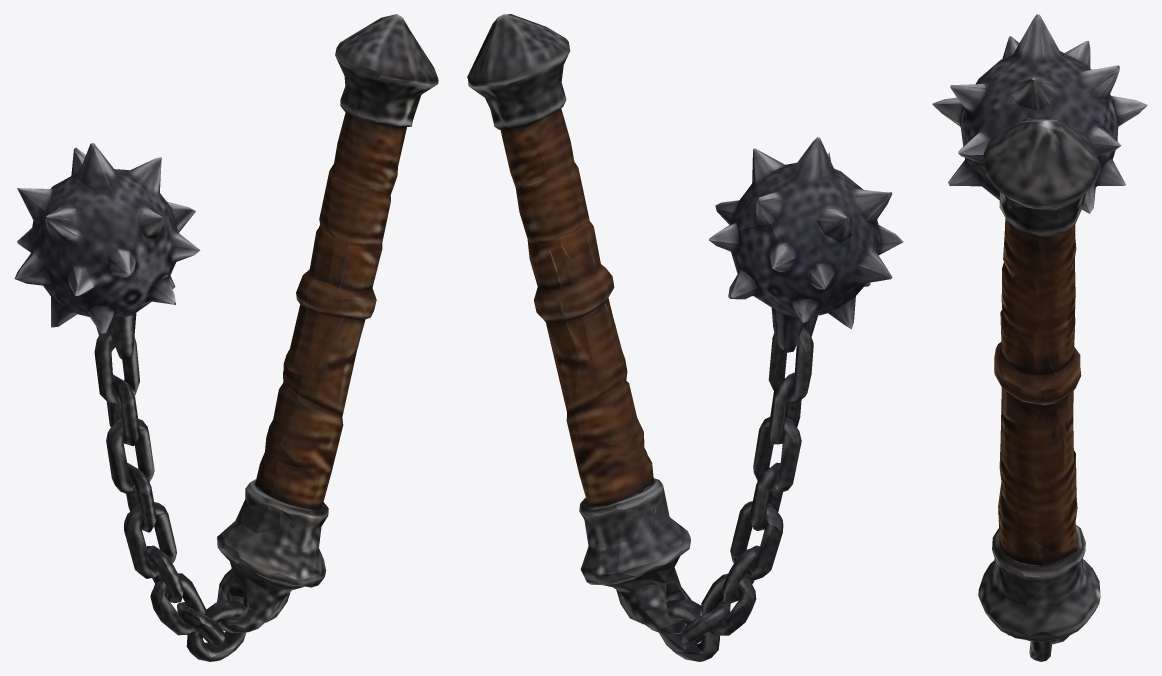
File: 1566_flail.glb
3 renders of one model, left to right at view 1: azimuth 30°, elevation 25°; view 2: azimuth 150°, elevation 25°; view 3: azimuth 270°, elevation 25°, orthographic. The views are drawn at different scales.
Parts seen in each view (by area): view 1: Model; view 2: Model; view 3: Model.
Boxes of the visible parts, x1,y1,x2,y2 form: Model: (14,14,438,661); Model: (467,14,903,661); Model: (932,14,1147,661).
Bounding box in the file's own units: 0.7267 × 1 × 0.3084.
1 material, 1 textured.
